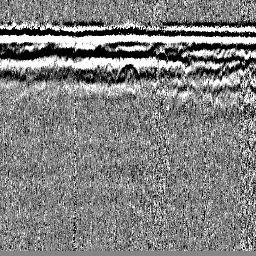cavity: (115, 57, 142, 87)
